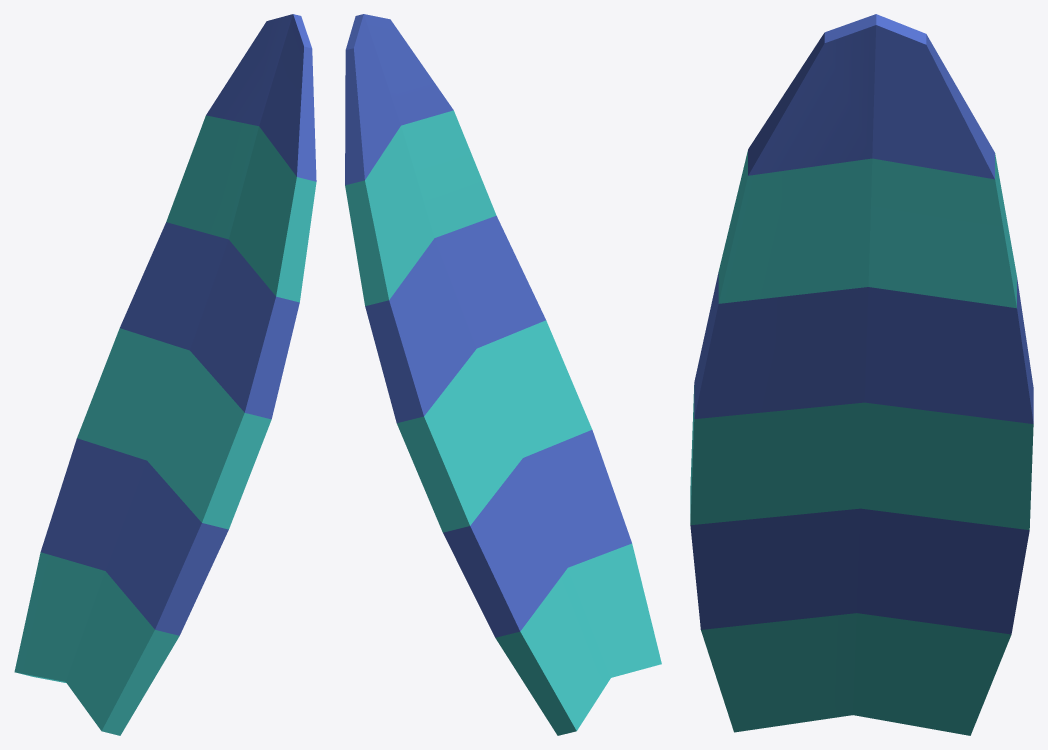
File: TablaSurf1.fbx
3 views of the same model, side by side, from view 1: azimuth 30°, elevation 25°; view 2: azimuth 150°, elevation 25°; view 3: azimuth 270°, elevation 25° (orthographic). The views are drawn at different scales.
Visible parts, largest first — view 1: SURFBOARD; view 2: SURFBOARD; view 3: SURFBOARD.
Boxes of the visible parts, <box> form: SURFBOARD: <box>14,14,316,735</box>; SURFBOARD: <box>345,14,661,735</box>; SURFBOARD: <box>690,14,1033,735</box>.
Bounding box in the file's own units: 0.4698 × 1.12 × 0.4003.
